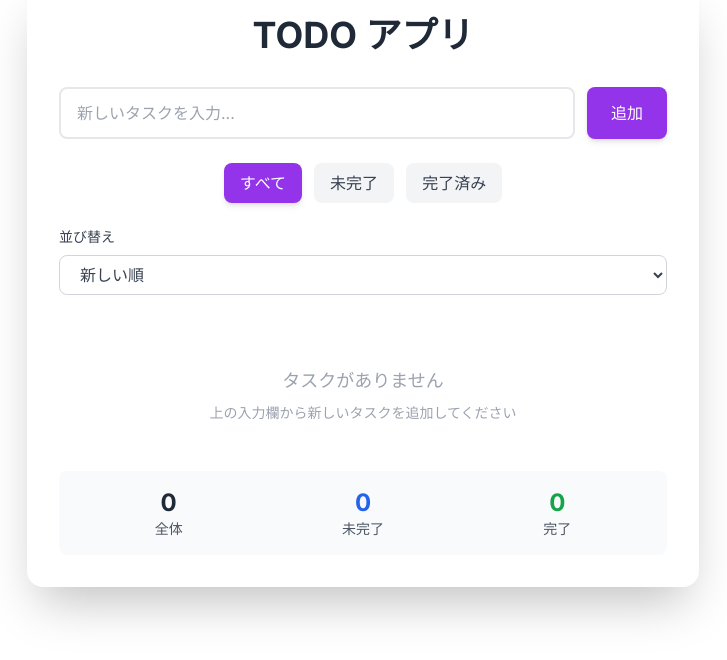
Test: TodoApp › should filter todos by "未完了"
Type "Active task" into the field with placeholder "新しいタスクを入力..." at {"x": 317, "y": 113}, box [59,87,575,139]
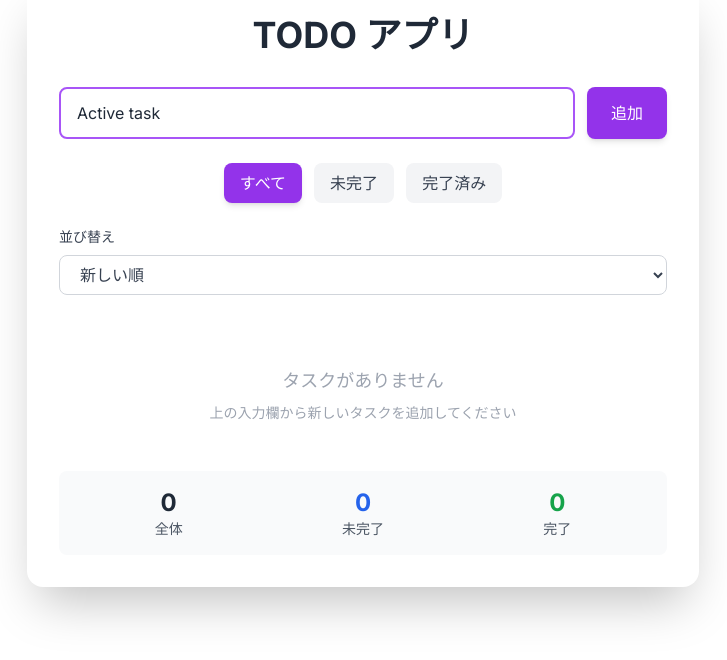
Click the button "追加" at {"x": 627, "y": 113}, box [587,87,667,139]
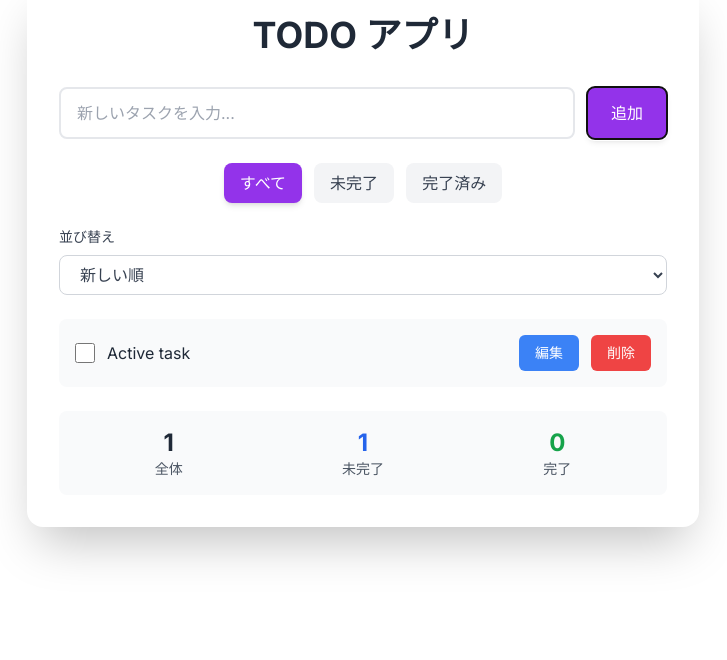
Type "Completed task" into the field with placeholder "新しいタスクを入力..." at {"x": 317, "y": 113}, box [59,87,575,139]
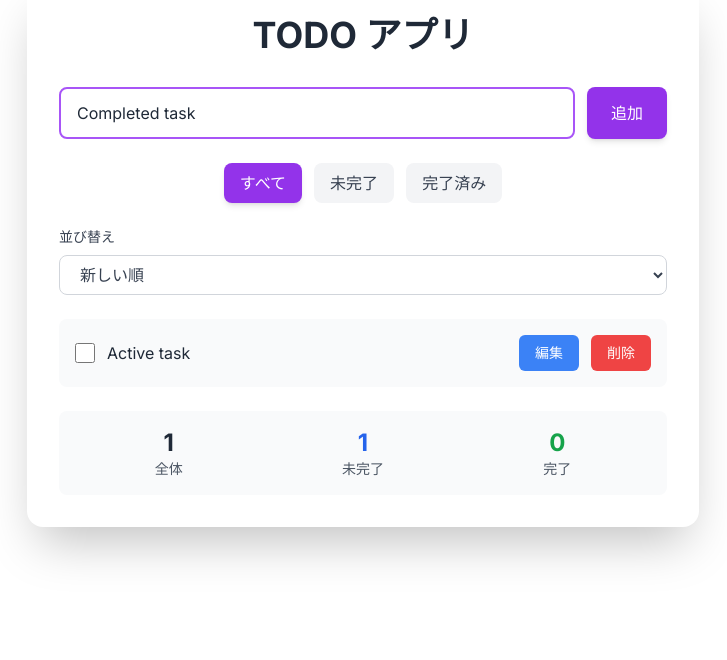
Click the button "追加" at {"x": 627, "y": 113}, box [587,87,667,139]
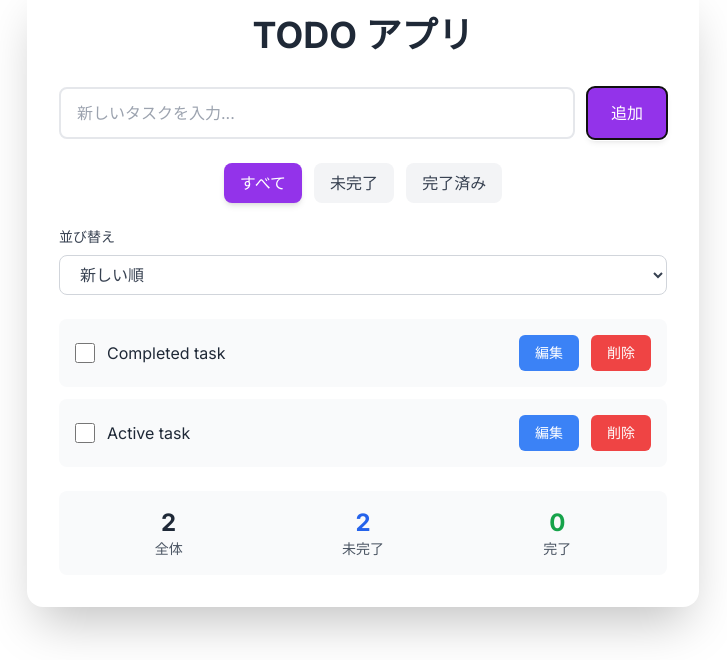
Now the text "Active task" is shown, box [107,423,190,443]
Now the text "Completed task" is shown, box [107,343,226,363]
# Find checkbox for "Completed task" specifically
Click the checkbox next to "Completed task" at {"x": 85, "y": 353}, box [75,343,95,363]
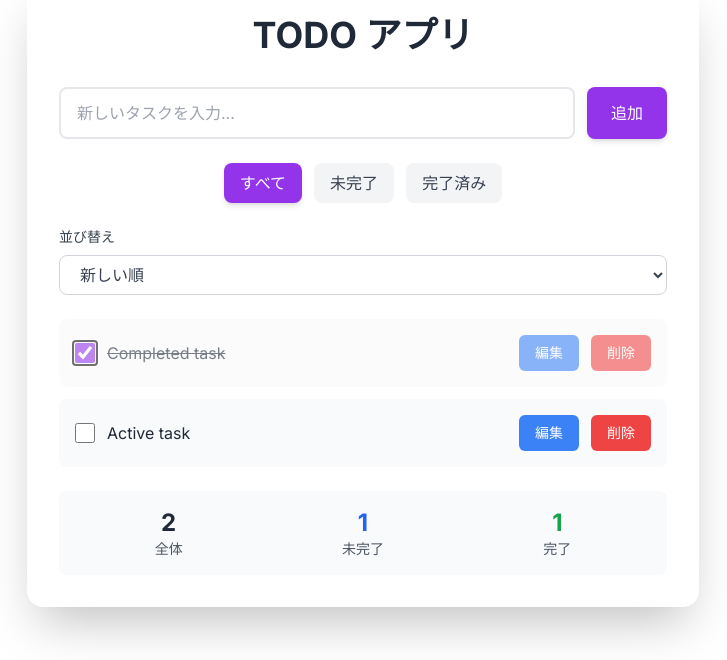
Click the button "未完了" at {"x": 354, "y": 183}, box [314,163,394,203]
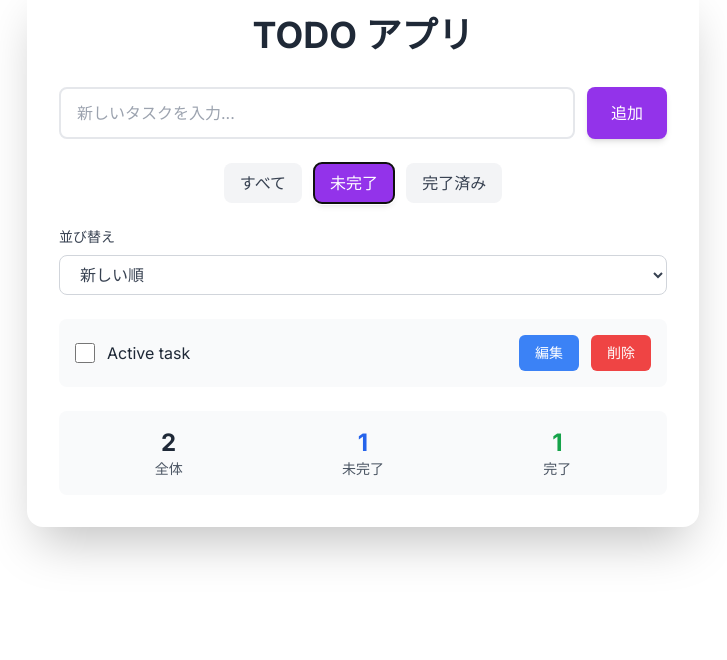
Now the text "Active task" is shown, box [107,343,190,363]
Now the text "Completed task" is gone
